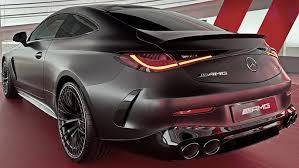mercedes: (244, 54, 261, 73)
